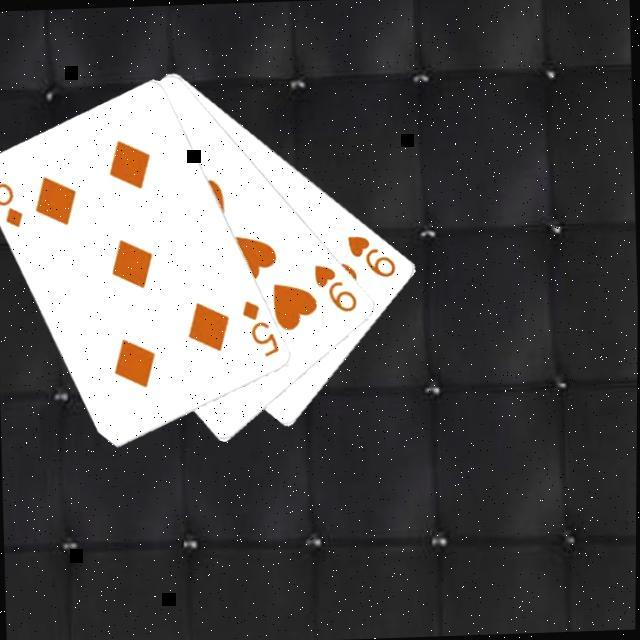5D: (240, 298, 284, 362), (0, 168, 28, 233)
9H: (345, 232, 402, 284), (313, 261, 363, 319)
